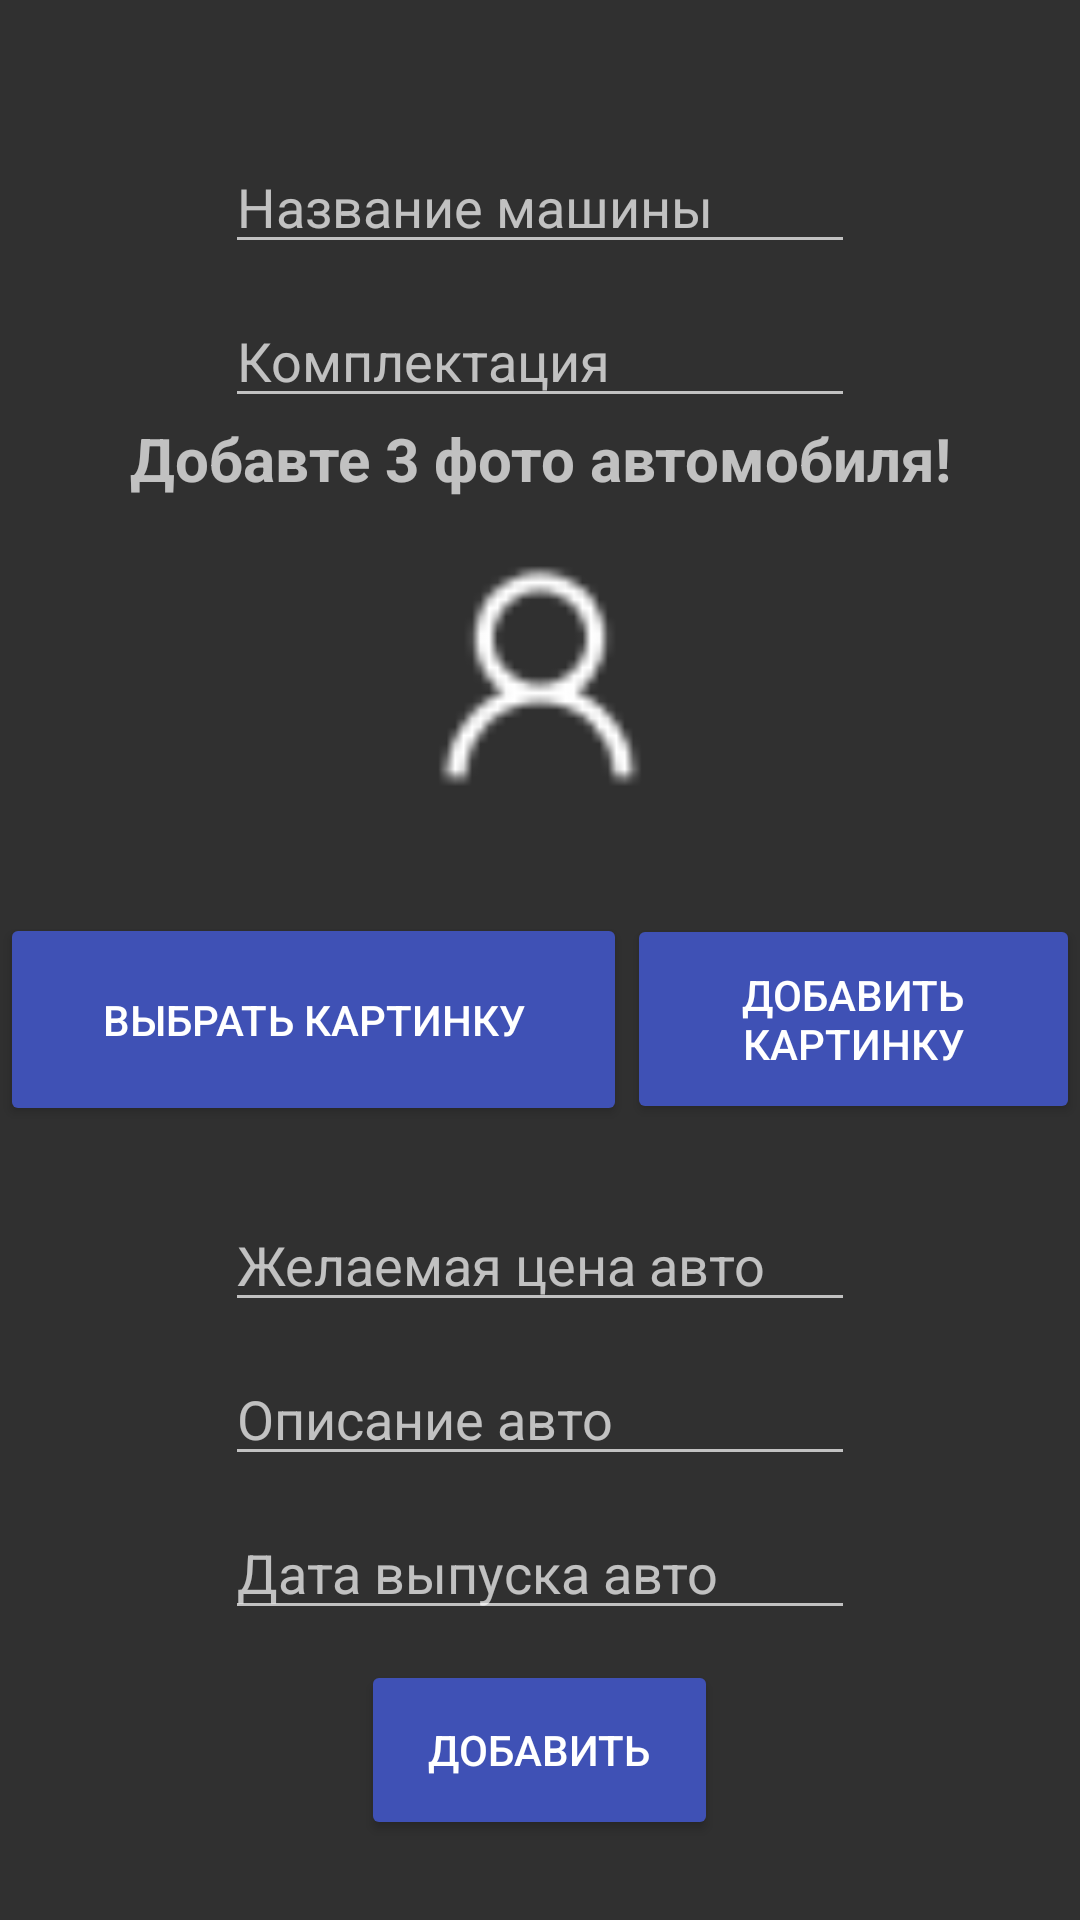

Named icons in this screenshot (1080w x 1920h) and their centers, [x,y]:
contacts: [539,675]
